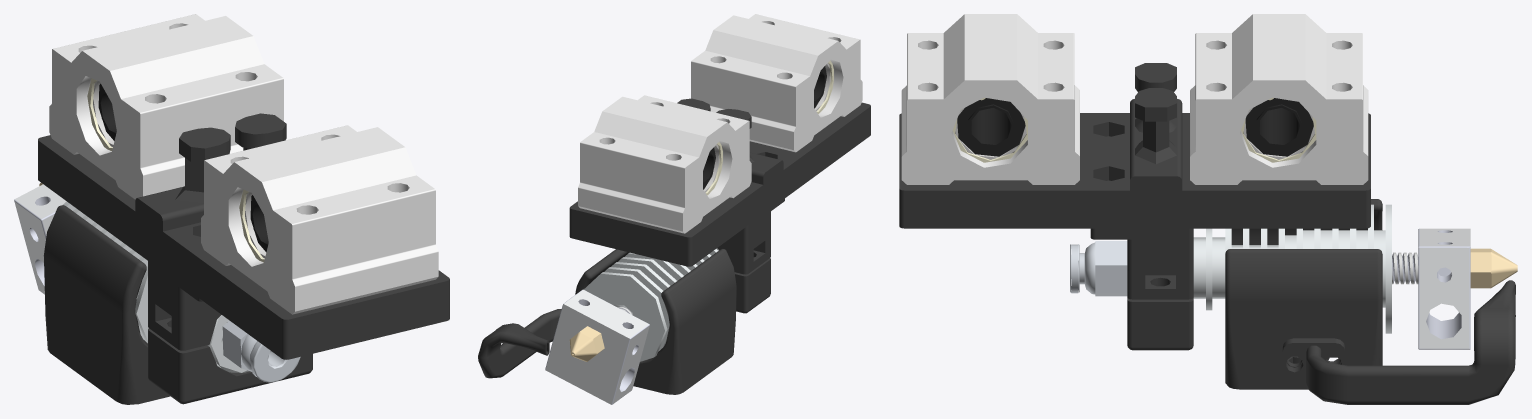
The model's file is tryska.glb.
3 views of the same model, side by side, from view 1: azimuth 30°, elevation 25°; view 2: azimuth 150°, elevation 25°; view 3: azimuth 270°, elevation 25° (orthographic). The views are drawn at different scales.
Visible parts, largest first — view 1: Solid1:4, Solid1, Solid5:4, Solid5:5, Solid5:2, Solid5:3, Solid1:9, Solid5:1, Solid5, Solid1:1, Solid1:5, Solid1:3 (+1 smaller); view 2: Solid1, Solid1:4, Solid5:4, Solid5:5, Solid1:9, Solid5, Solid5:6, Solid5:3, Solid5:2, Solid1:10, Solid1:1, Solid1:5; view 3: Solid5:4, Solid1, Solid1:4, Solid5:5, Solid5:6, Solid1:9, Solid5, Solid5:3, Solid5:2, Solid1:5, Solid1:1, Solid5:1 (+2 smaller).
Boxes of the visible parts, x1=… form: Solid1:4: x1=201, y1=125, x2=438, y2=314; Solid1: x1=49, y1=14, x2=286, y2=199; Solid5:4: x1=38, y1=113, x2=449, y2=359; Solid5:5: x1=43, y1=205, x2=170, y2=404; Solid5:2: x1=148, y1=328, x2=312, y2=404; Solid5:3: x1=148, y1=261, x2=221, y2=350; Solid1:9: x1=14, y1=184, x2=66, y2=294; Solid5:1: x1=222, y1=320, x2=300, y2=382; Solid5: x1=63, y1=201, x2=249, y2=372; Solid1:1: x1=93, y1=81, x2=116, y2=147; Solid1:5: x1=245, y1=192, x2=268, y2=258; Solid1:3: x1=87, y1=78, x2=112, y2=150; Solid1: x1=578, y1=95, x2=751, y2=233; Solid1:4: x1=691, y1=14, x2=862, y2=152; Solid5:4: x1=569, y1=98, x2=870, y2=266; Solid5:5: x1=575, y1=249, x2=736, y2=394; Solid1:9: x1=545, y1=289, x2=649, y2=404; Solid5: x1=584, y1=248, x2=718, y2=361; Solid5:6: x1=478, y1=309, x2=561, y2=378; Solid5:3: x1=717, y1=198, x2=784, y2=274; Solid5:2: x1=734, y1=258, x2=770, y2=313; Solid1:10: x1=569, y1=326, x2=604, y2=361; Solid1:1: x1=703, y1=144, x2=719, y2=192; Solid1:5: x1=814, y1=63, x2=830, y2=111; Solid5:4: x1=899, y1=63, x2=1370, y2=228; Solid1: x1=1190, y1=14, x2=1368, y2=184; Solid1:4: x1=901, y1=14, x2=1079, y2=184; Solid5:5: x1=1225, y1=199, x2=1382, y2=389; Solid5:6: x1=1282, y1=280, x2=1515, y2=404; Solid1:9: x1=1418, y1=228, x2=1470, y2=349; Solid5: x1=1193, y1=204, x2=1391, y2=333; Solid5:3: x1=1090, y1=228, x2=1193, y2=299; Solid5:2: x1=1127, y1=298, x2=1193, y2=350; Solid1:5: x1=955, y1=98, x2=1026, y2=159; Solid1:1: x1=1243, y1=98, x2=1314, y2=159; Solid5:1: x1=1070, y1=241, x2=1127, y2=296.
Bounding box in the file's own units: 0.0455 × 0.0651 × 0.118.
